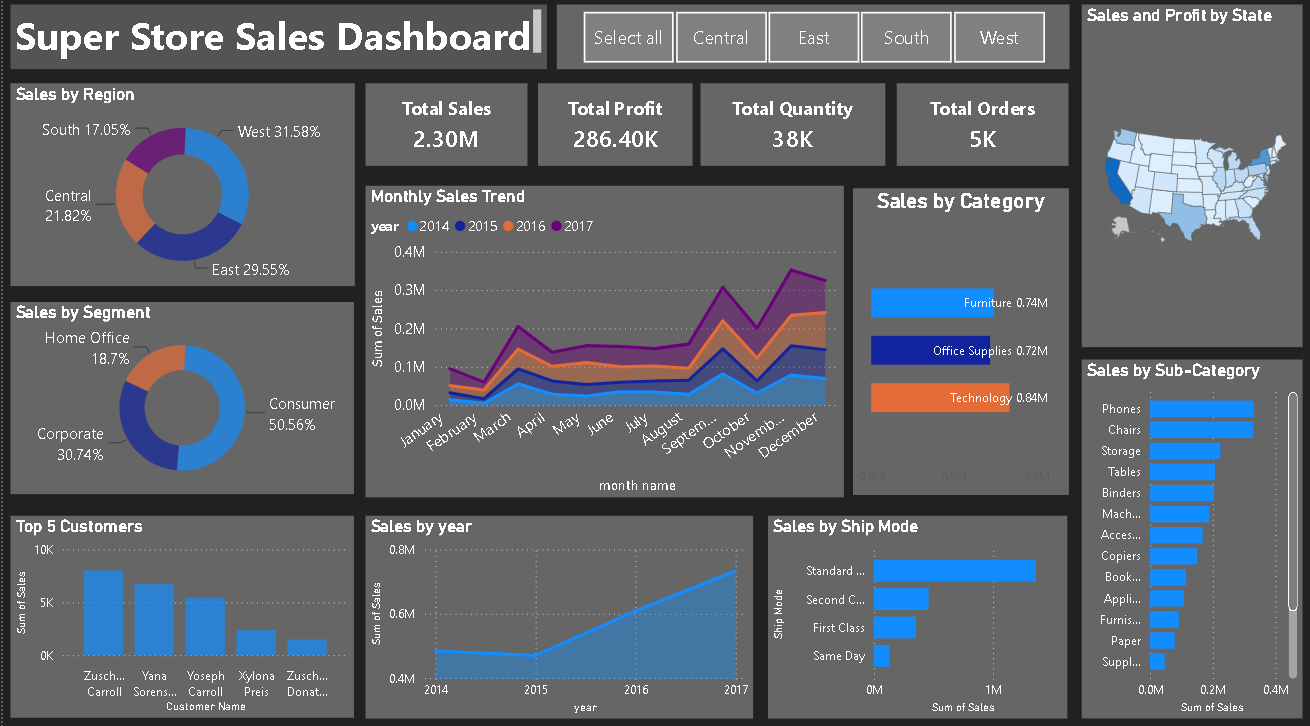

The page's visual inventory and layout, read from the dashboard file:
{"tool":"powerbi","page":{"name":"Page 1","canvas":[1280,720],"ordinal":0},"visuals":[{"type":"donutChart","title":"Sales by Region","fields":{"Y":["Sum(SampleSuperstore.Sales)"],"Category":["SampleSuperstore.Region"]},"box":[6.8,89.2,336.5,198.6],"z":0},{"type":"textbox","box":[6.8,12.2,527,63.5],"z":1000},{"type":"donutChart","title":"Sales by Segment","fields":{"Y":["Sum(SampleSuperstore.Sales)"],"Category":["SampleSuperstore.Segment"]},"box":[6.8,305.4,336.5,189.2],"z":2000},{"type":"clusteredBarChart","title":"Sales by Ship Mode","fields":{"Category":["SampleSuperstore.Ship Mode"],"Y":["Sum(SampleSuperstore.Sales)"]},"box":[748.8,512.2,292.7,198.8],"z":3000},{"type":"clusteredBarChart","title":"Sales by Category","fields":{"Y":["Sum(SampleSuperstore.Sales)"],"Series":["SampleSuperstore.Category"]},"box":[831.7,191.5,211,300],"z":4000},{"type":"clusteredBarChart","title":"Sales by Sub-Category","fields":{"Y":["Sum(SampleSuperstore.Sales)"],"Category":["SampleSuperstore.Sub-Category"]},"box":[1054.9,359.8,215.9,351.2],"z":5000},{"type":"stackedAreaChart","title":"Monthly Sales by year of year","fields":{"Category":["SampleSuperstore.month name"],"Y":["Sum(SampleSuperstore.Sales)"],"Series":["SampleSuperstore.year"]},"box":[354.9,189,468.3,304.9],"z":6000},{"type":"stackedAreaChart","title":"Sales by year","fields":{"Category":["SampleSuperstore.year"],"Y":["Sum(SampleSuperstore.Sales)"]},"box":[354.9,512.2,379.3,198.8],"z":7000},{"type":"shapeMap","fields":{"Category":["SampleSuperstore.State"],"Value":["Sum(SampleSuperstore.Sales)"]},"box":[1054.9,12.2,215.9,335.4],"z":8000},{"type":"cardVisual","fields":{"Data":["SampleSuperstore.total sales"]},"box":[354.9,89,158.5,80.5],"z":9000},{"type":"cardVisual","fields":{"Data":["SampleSuperstore.Total Quantity"]},"box":[682.9,89,180.5,80.5],"z":10000},{"type":"cardVisual","fields":{"Data":["SampleSuperstore.Total Profit"]},"box":[523.2,89,151.2,80.5],"z":11000},{"type":"slicer","fields":{"Values":["SampleSuperstore.Region"]},"box":[541.5,12.2,501.2,63.4],"z":12000},{"type":"cardVisual","fields":{"Data":["SampleSuperstore.Orders"]},"box":[874.4,89,168.3,80.5],"z":13000},{"type":"donutChart","fields":{"Category":["SampleSuperstore.Segment"],"Y":["Sum(SampleSuperstore.Sales)"]},"box":[7,512,336,199],"z":14000}]}

Visuals, with their boxes in screenshot pixels (x1, y1, x2, y2), scaled from the page's 1280x720 canvas onto the 1310x726 screenshot:
"Sales by Region" donutChart: bbox(7, 90, 351, 290)
textbox: bbox(7, 12, 546, 76)
"Sales by Segment" donutChart: bbox(7, 308, 351, 499)
"Sales by Ship Mode" clusteredBarChart: bbox(766, 516, 1066, 717)
"Sales by Category" clusteredBarChart: bbox(851, 193, 1067, 496)
"Sales by Sub-Category" clusteredBarChart: bbox(1080, 363, 1301, 717)
"Monthly Sales by year of year" stackedAreaChart: bbox(363, 191, 842, 498)
"Sales by year" stackedAreaChart: bbox(363, 516, 751, 717)
shapeMap - SampleSuperstore.State x Sum(SampleSuperstore.Sales): bbox(1080, 12, 1301, 350)
cardVisual - SampleSuperstore.total sales: bbox(363, 90, 525, 171)
cardVisual - SampleSuperstore.Total Quantity: bbox(699, 90, 884, 171)
cardVisual - SampleSuperstore.Total Profit: bbox(535, 90, 690, 171)
slicer - SampleSuperstore.Region: bbox(554, 12, 1067, 76)
cardVisual - SampleSuperstore.Orders: bbox(895, 90, 1067, 171)
donutChart - SampleSuperstore.Segment x Sum(SampleSuperstore.Sales): bbox(7, 516, 351, 717)
